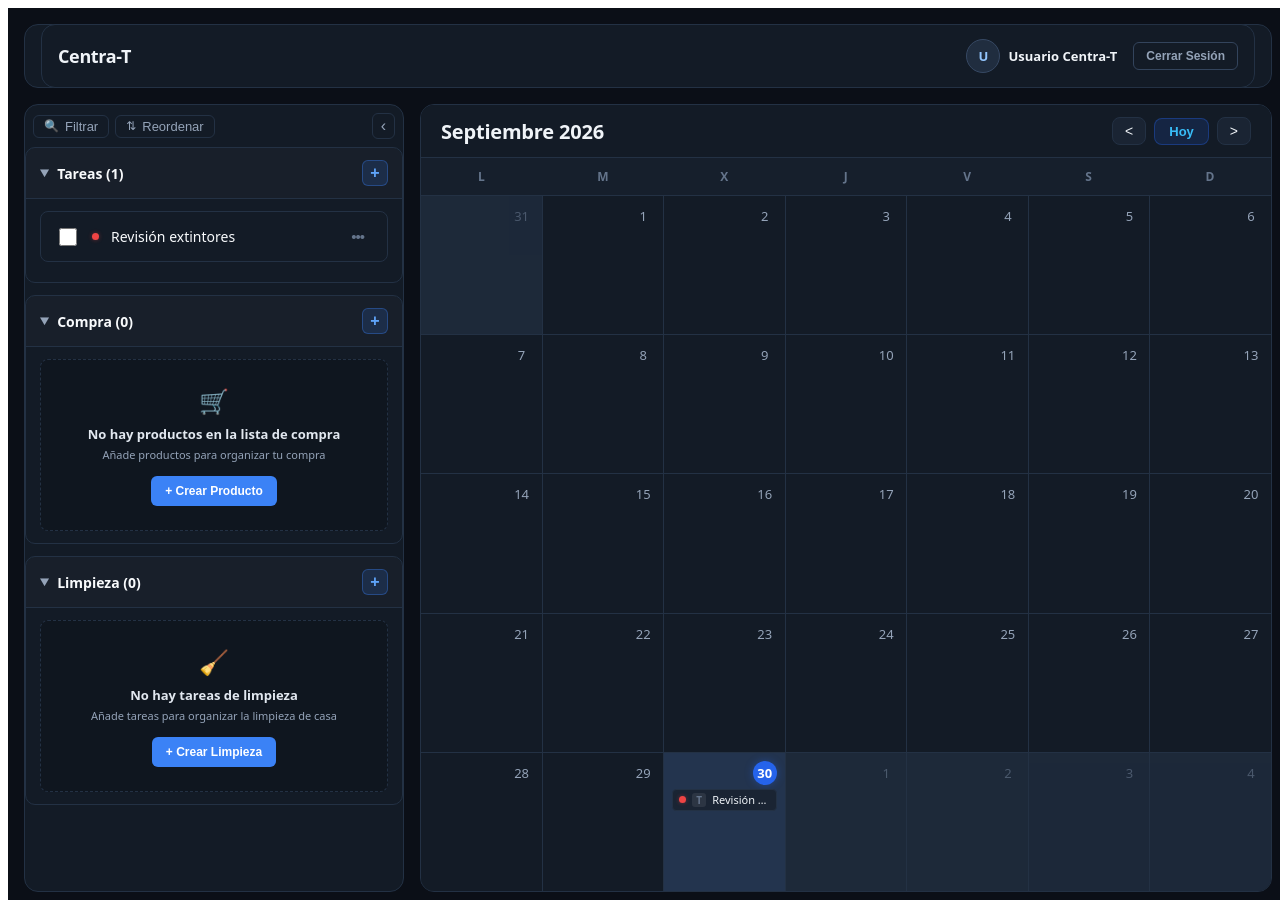
App Root Integration - Filtrado Reactivo y Reordenación en Caliente (RV-A06) › Desasignación por Clic Derecho y Retorno al Hub (Caso Forense VV-007) › [VV-007]: Seleccionar "Mover a Sin Asignar" retira la pastilla del calendario y mantiene el ítem intacto en el Hub sin fecha
Clic derecho para desplegar menú contextual
Right-click the button with test id "calendar-pill-task-unschedule-1".
right_click(724, 800)  # box [672,789,777,811]
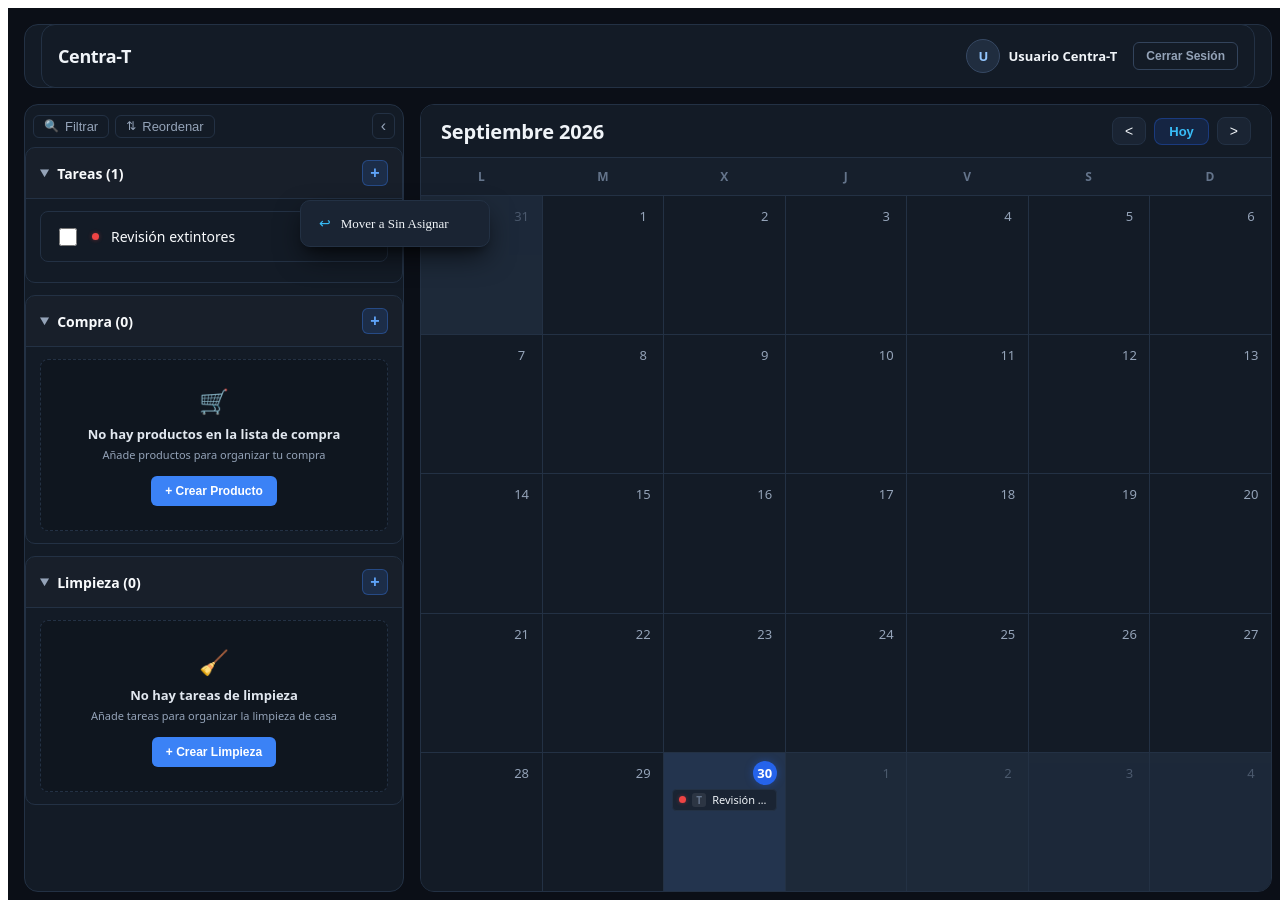
Now the menu item with test id "context-menu-unschedule-btn" is shown
Pulsar "Mover a Sin Asignar"
Click the menu item with test id "context-menu-unschedule-btn".
click(395, 224)  # box [307,207,483,240]
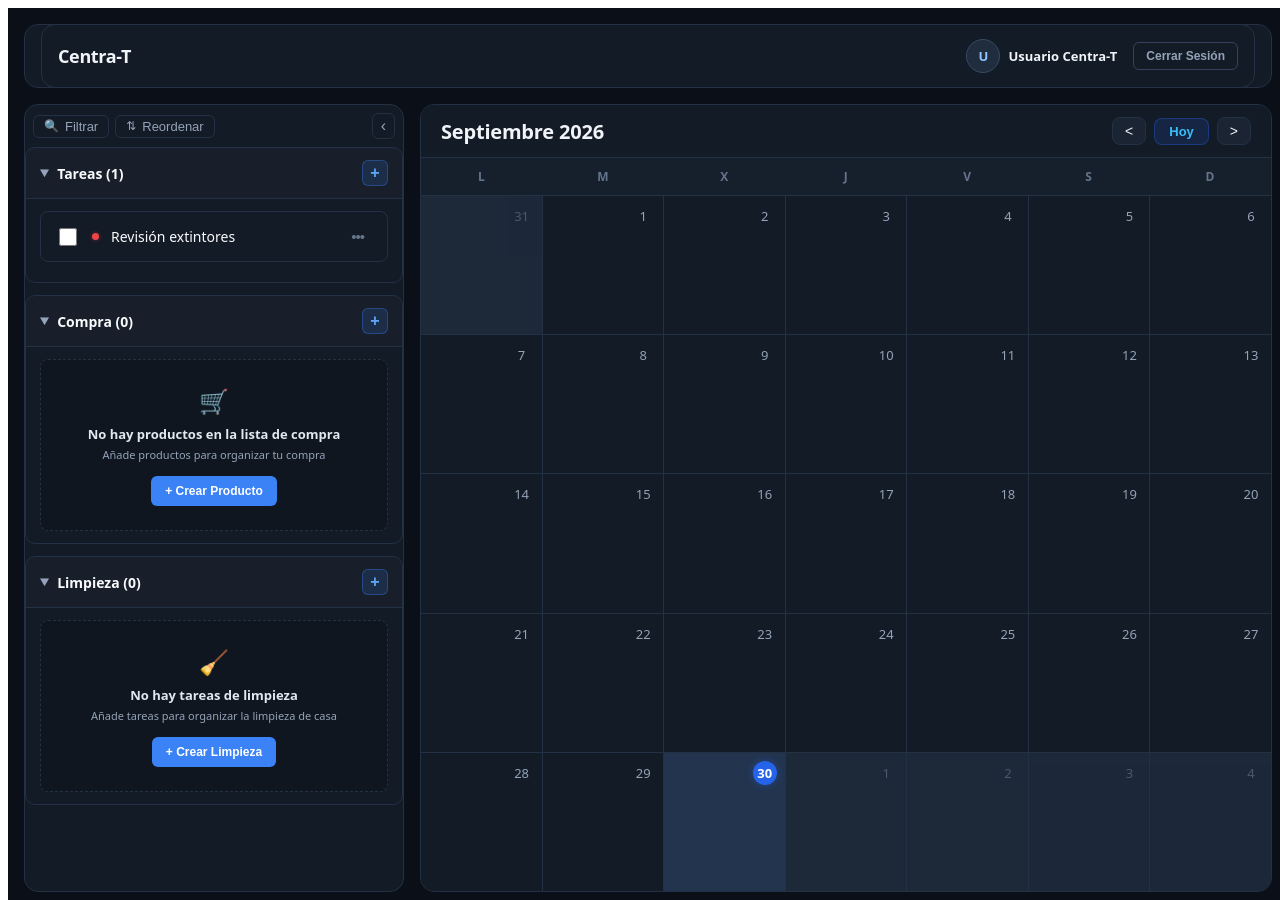
Expected: the list item with test id "task-card-task-unschedule-1" is shown, [40,211,388,262]
Now the menu with test id "calendar-item-context-menu" is gone
Now the button with test id "calendar-pill-task-unschedule-1" is gone
